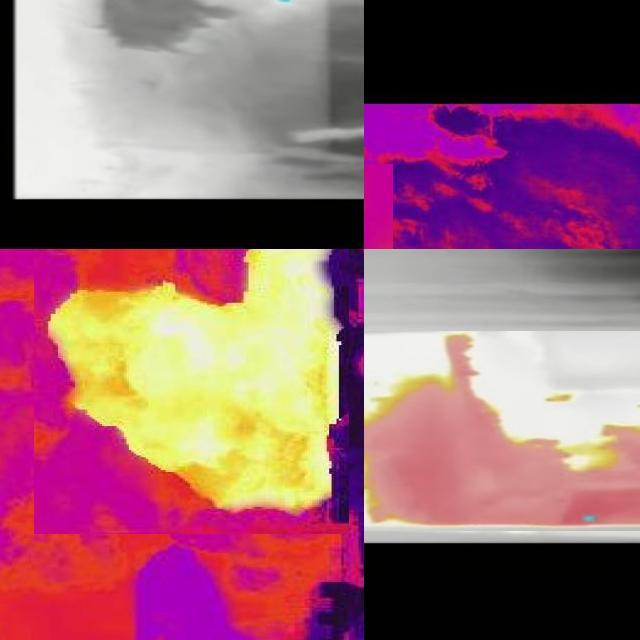fire: (35, 250, 350, 534), (365, 331, 640, 531)
